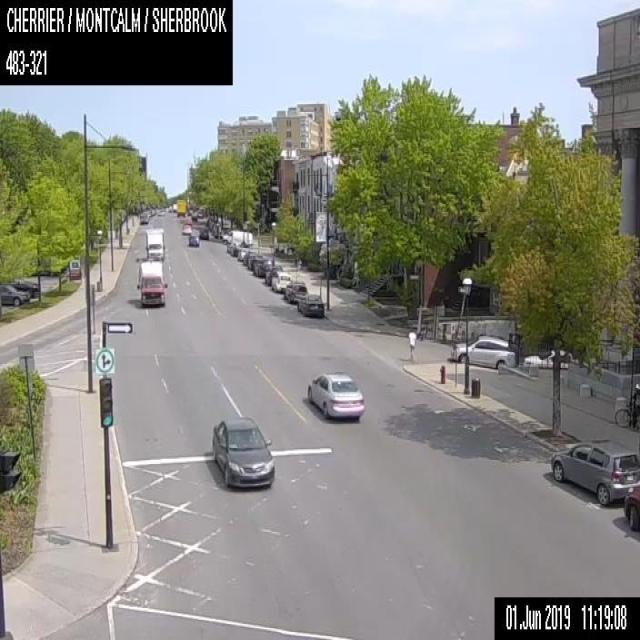pedestrian: (407, 328, 415, 361)
vehicle: (551, 438, 639, 504), (210, 416, 274, 489), (307, 371, 363, 420), (450, 333, 514, 368), (136, 259, 166, 307), (523, 348, 578, 367), (623, 484, 639, 530), (144, 227, 164, 261), (0, 283, 29, 305), (297, 294, 324, 316), (284, 281, 308, 304), (221, 229, 252, 246), (10, 280, 38, 297), (271, 270, 291, 292), (253, 256, 272, 276), (265, 264, 282, 285), (246, 253, 262, 269), (242, 249, 256, 265), (229, 241, 242, 255), (177, 198, 186, 215), (188, 233, 199, 246), (237, 247, 248, 260), (199, 228, 208, 239), (139, 213, 148, 224), (181, 224, 191, 233), (226, 241, 232, 252), (191, 212, 196, 221), (172, 202, 176, 212)
